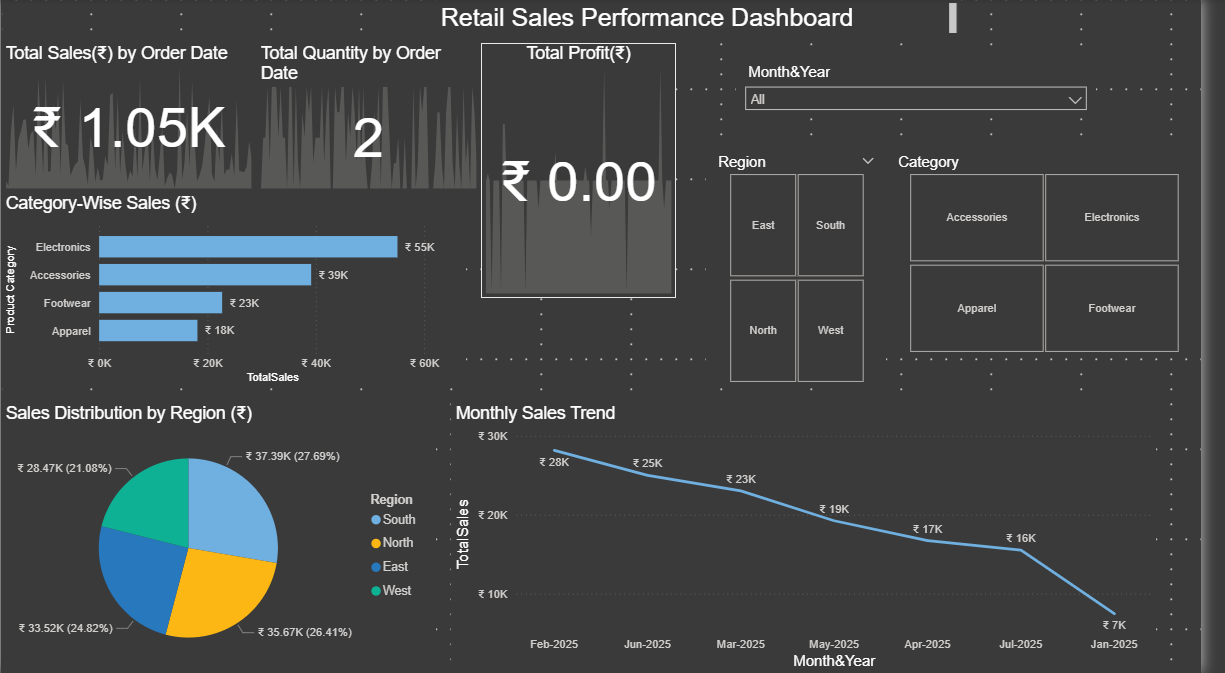

Layout of this report page (visuals, bound fields, positions):
{"tool":"powerbi","page":{"name":"Page 1","canvas":[1280,720],"ordinal":0},"visuals":[{"type":"kpi","fields":{"Indicator":["Sum(Sheet1.TotalSales)"],"TrendLine":["Sheet1.Date"]},"box":[0,48,272,160],"z":0},{"type":"kpi","fields":{"Indicator":["Sum(Sheet1.Quantity)"],"TrendLine":["Sheet1.Date"]},"box":[272,48,240,160],"z":1000},{"type":"kpi","title":"Total Profit(₹) ","fields":{"Indicator":["Sum(Sheet1.Profit)"],"TrendLine":["Sheet1.Date"]},"box":[512,48,208,272],"z":2000},{"type":"clusteredBarChart","title":"Category-Wise Sales (₹)","fields":{"Y":["Sum(Sheet1.TotalSales)"],"Category":["Sheet1.Category"]},"box":[0,208,496,208],"z":3000},{"type":"pieChart","title":"Sales Distribution by Region (₹)","fields":{"Category":["Sheet1.Region"],"Y":["Sum(Sheet1.TotalSales)"]},"box":[0,432,464,288],"z":4000},{"type":"lineChart","title":"Monthly Sales Trend","fields":{"Category":["Sheet1.Month&Year"],"Y":["Sum(Sheet1.TotalSales)"]},"box":[480,432,752,288],"z":5000},{"type":"slicer","fields":{"Values":["Sheet1.Region"]},"box":[752,160,192,256],"z":6000},{"type":"slicer","fields":{"Values":["Sheet1.Category"]},"box":[944,160,336,224],"z":7000},{"type":"slicer","fields":{"Values":["Sheet1.Month&Year"]},"box":[784,64,384,64],"z":8000},{"type":"textbox","box":[464,0,560,48],"z":9000}]}

Visuals, with their boxes in screenshot pixels (x1, y1, x2, y2), scaled from the page's 1280x720 canvas onto the 1225x673 screenshot:
kpi - Sum(Sheet1.TotalSales) x Sheet1.Date: pyautogui.locateOnScreen(0, 45, 260, 194)
kpi - Sum(Sheet1.Quantity) x Sheet1.Date: pyautogui.locateOnScreen(260, 45, 490, 194)
"Total Profit(₹) " kpi: pyautogui.locateOnScreen(490, 45, 689, 299)
"Category-Wise Sales (₹)" clusteredBarChart: pyautogui.locateOnScreen(0, 194, 475, 389)
"Sales Distribution by Region (₹)" pieChart: pyautogui.locateOnScreen(0, 404, 444, 672)
"Monthly Sales Trend" lineChart: pyautogui.locateOnScreen(459, 404, 1179, 672)
slicer - Sheet1.Region: pyautogui.locateOnScreen(720, 150, 903, 389)
slicer - Sheet1.Category: pyautogui.locateOnScreen(903, 150, 1224, 359)
slicer - Sheet1.Month&Year: pyautogui.locateOnScreen(750, 60, 1118, 120)
textbox: pyautogui.locateOnScreen(444, 0, 980, 45)
